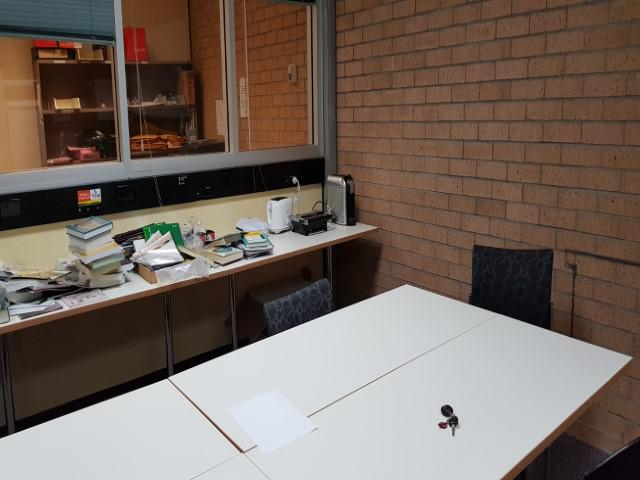key: (449, 417, 458, 436)
